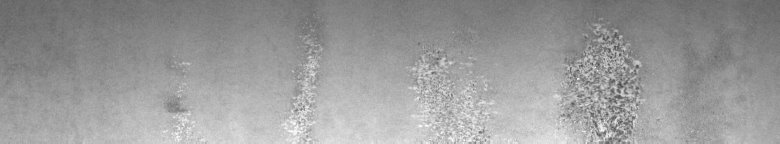hc: (556, 18, 644, 136)
